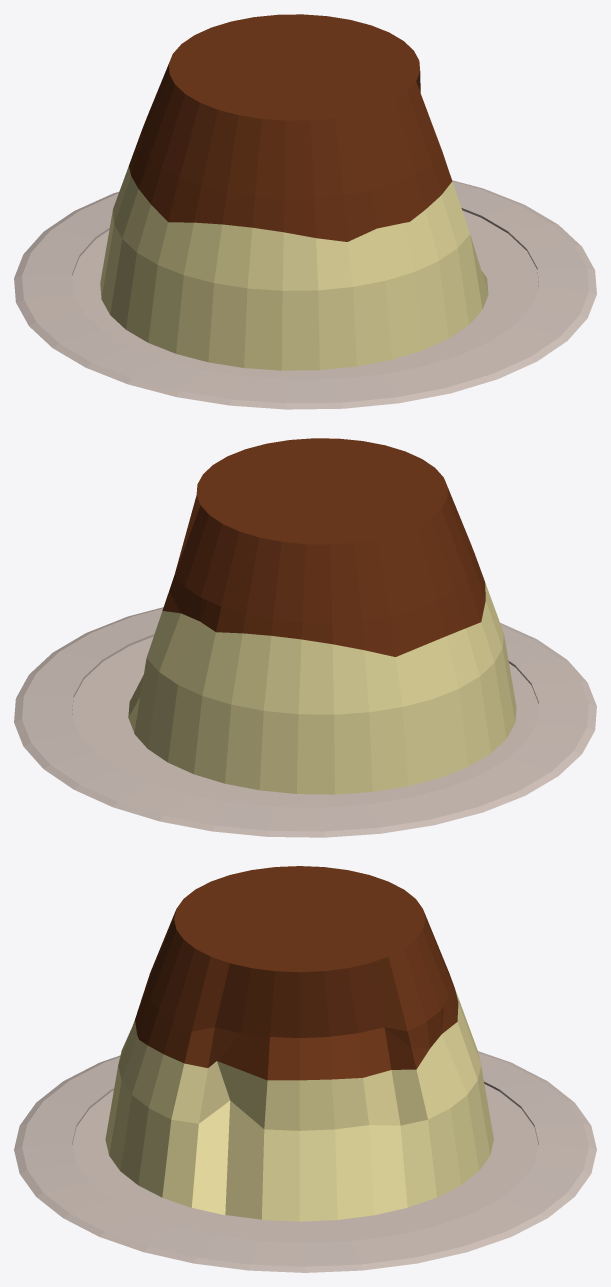
The model's file is purin.fbx.
3 renders of one model, top to bottom at view 1: azimuth 30°, elevation 25°; view 2: azimuth 150°, elevation 25°; view 3: azimuth 270°, elevation 25°, orthographic.
Parts seen in each view (by area): view 1: 円.001, 円; view 2: 円.001, 円; view 3: 円.001, 円.
Part boxes in pixels (box(x1,y1,x2,y2)): 円.001: box(100, 14, 488, 370); 円: box(14, 180, 596, 409); 円.001: box(128, 438, 516, 794); 円: box(14, 607, 596, 837); 円.001: box(105, 866, 493, 1221); 円: box(14, 1051, 596, 1272).
Size of the model in its own units: 4114 by 1786 by 4114.
